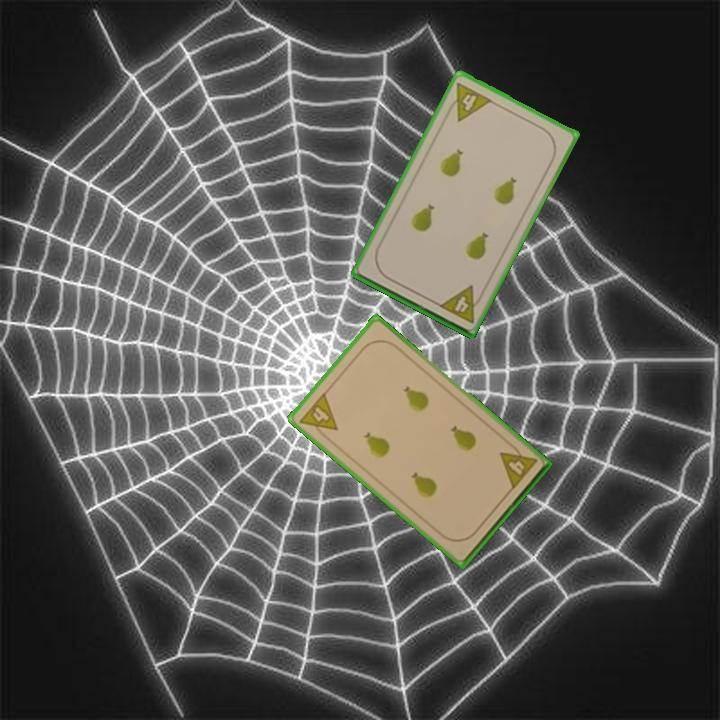4p: (296, 389, 341, 443), (442, 79, 495, 124), (496, 439, 540, 493), (435, 282, 487, 326)
